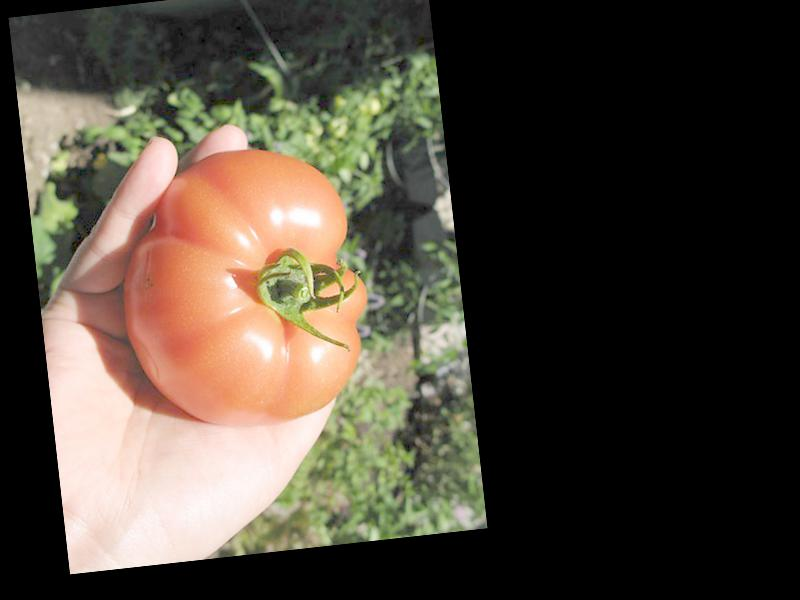Tomato: (112, 137, 379, 436)
